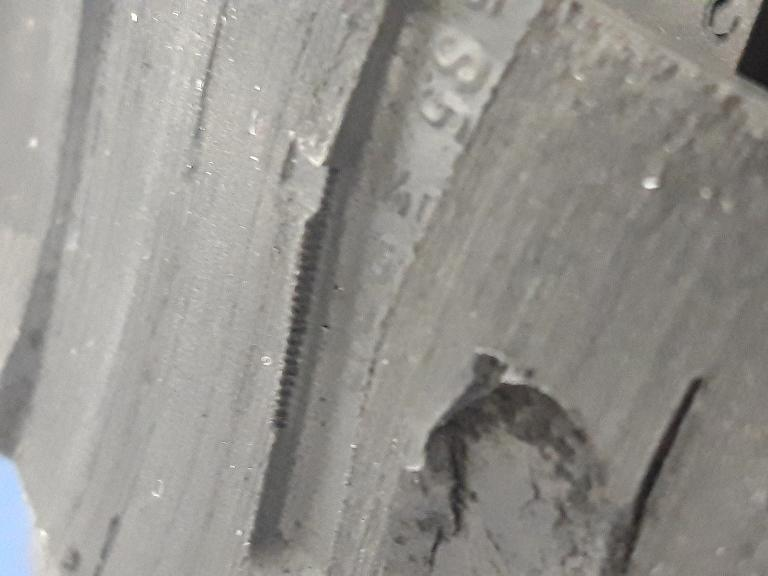temoin:0: (254, 128, 352, 242)
